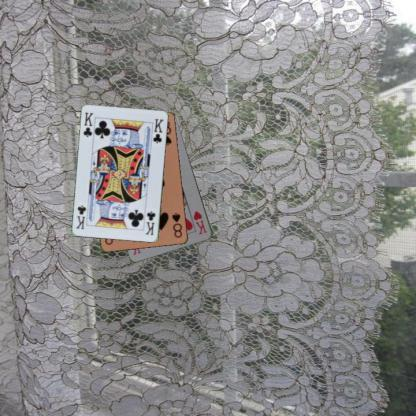8s: (169, 210, 183, 240)
Kc: (81, 110, 95, 138), (142, 209, 156, 236)
Kh: (191, 208, 208, 236)
